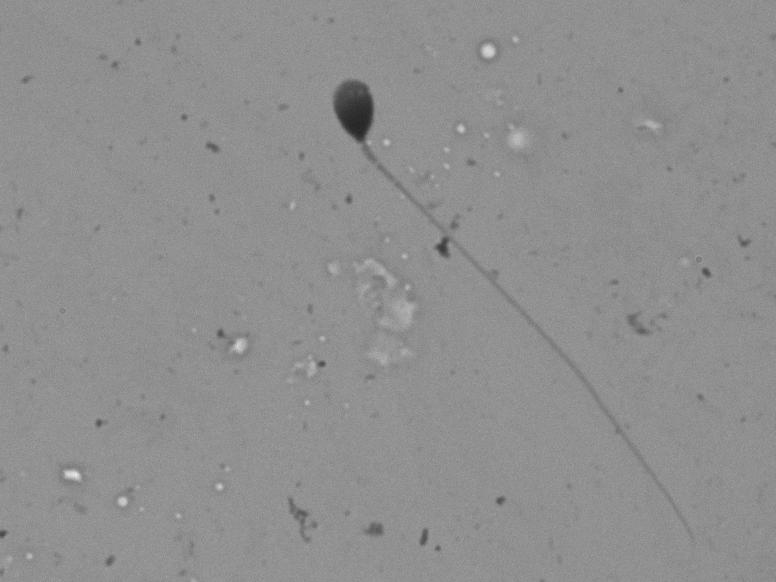Normal: (281, 71, 714, 549)
